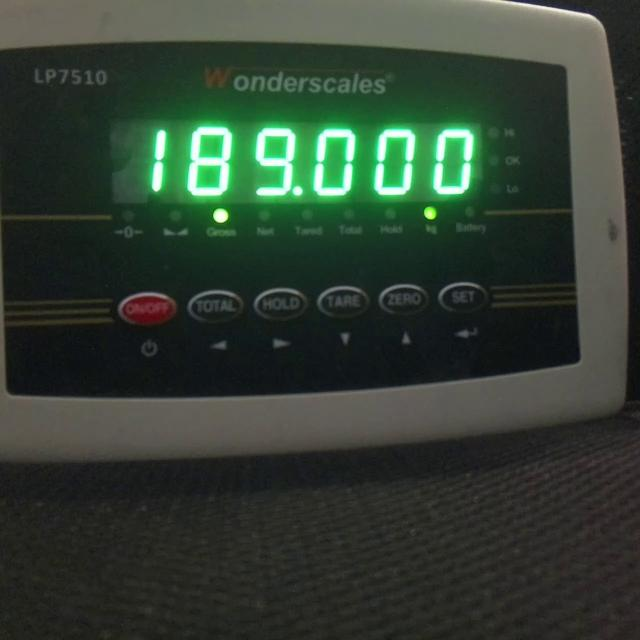.: (292, 186, 302, 196)
0: (314, 128, 356, 195), (374, 128, 416, 195), (433, 128, 473, 194)
1: (150, 129, 167, 192)
6: (187, 125, 232, 196)
9: (252, 125, 296, 198)
